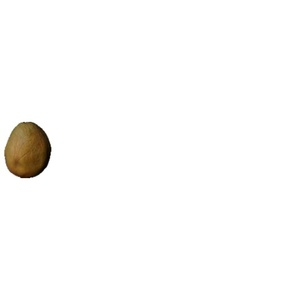mamão: (3, 116, 55, 183)
